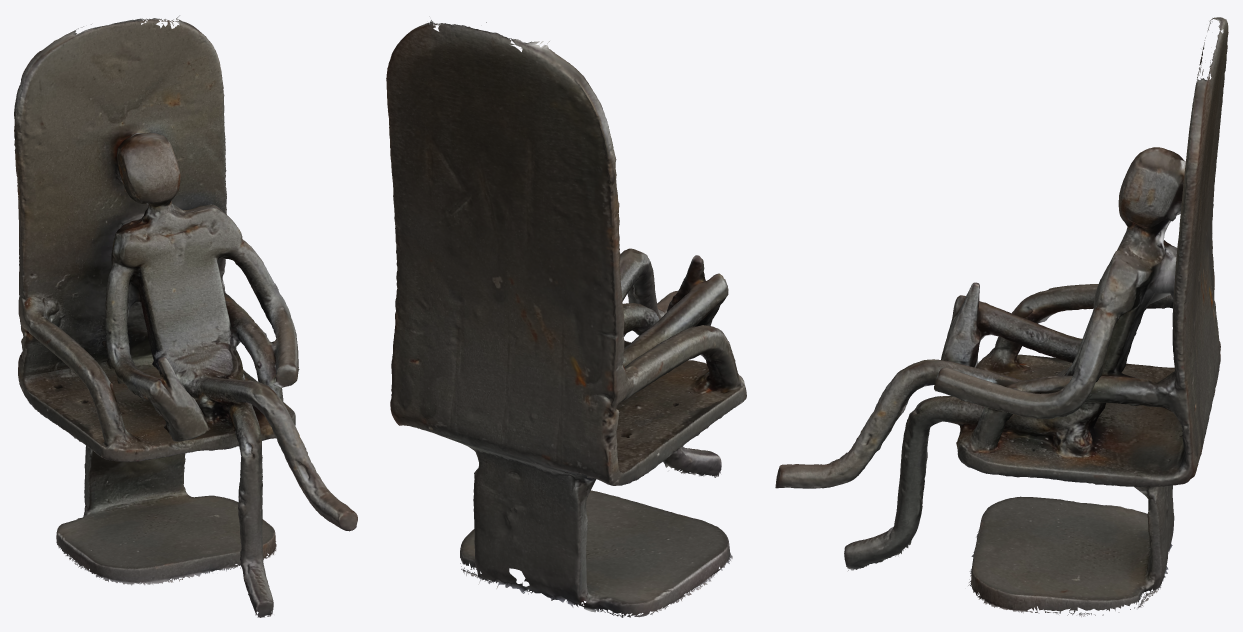
The model's file is piece-011.glb.
3 views of the same model, side by side, from view 1: azimuth 30°, elevation 25°; view 2: azimuth 150°, elevation 25°; view 3: azimuth 270°, elevation 25° (orthographic). The views are drawn at different scales.
Parts seen in each view (by area): view 1: Mesh_0_Part_0; view 2: Mesh_0_Part_0; view 3: Mesh_0_Part_0.
Boxes of the visible parts, x1,y1,x2,y2 form: Mesh_0_Part_0: (14,15,357,617); Mesh_0_Part_0: (386,16,746,617); Mesh_0_Part_0: (775,17,1228,617).
Size of the model in its own units: 0.1694 by 0.3571 by 0.2717.
Materials: 1 (1 with a texture image).
